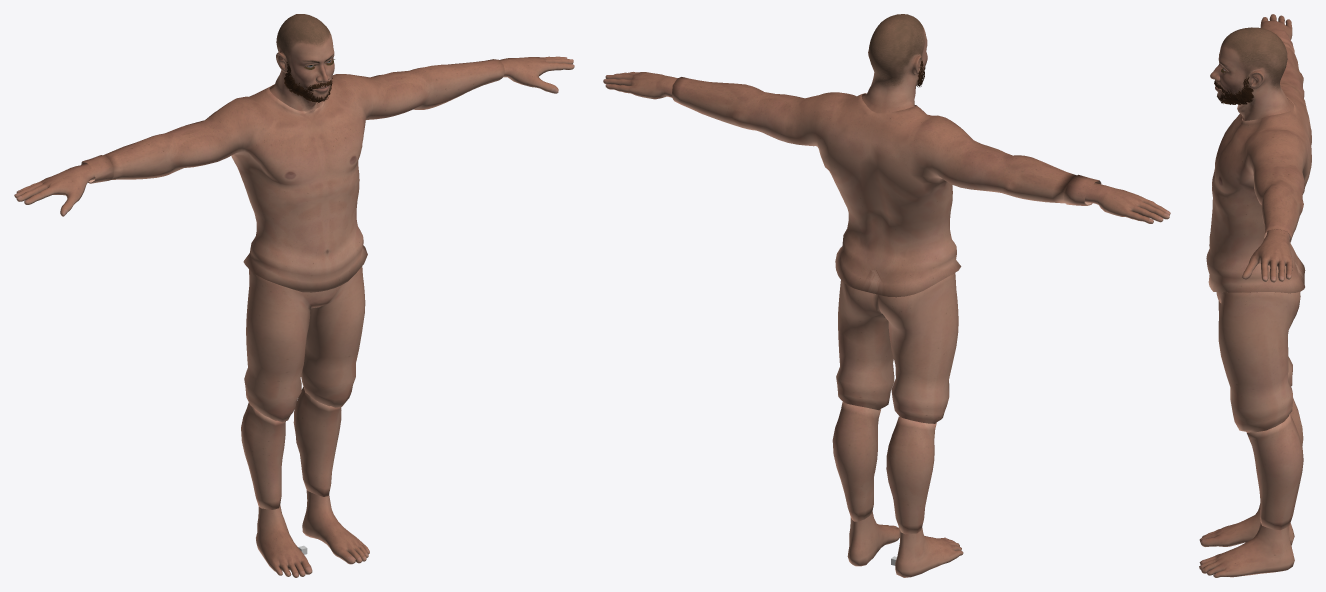
3 views of the same model, side by side, from view 1: azimuth 30°, elevation 25°; view 2: azimuth 150°, elevation 25°; view 3: azimuth 270°, elevation 25° (orthographic). The views are drawn at different scales.
Parts seen in each view (by area): view 1: Body.001, Body.002, Body, Body.003; view 2: Body.001, Body.002, Body, Body.003; view 3: Body.001, Body, Body.002, Body.003, Beards.
Boxes of the visible parts, bbox=[...] form: Body.001: bbox=[81, 59, 504, 292]; Body.002: bbox=[244, 266, 365, 422]; Body: bbox=[14, 14, 574, 577]; Body.003: bbox=[241, 387, 341, 509]; Body.001: bbox=[672, 77, 1101, 297]; Body.002: bbox=[836, 273, 958, 423]; Body: bbox=[603, 14, 1170, 577]; Body.003: bbox=[832, 402, 936, 534]; Body.001: bbox=[1206, 32, 1311, 293]; Body: bbox=[1199, 14, 1294, 577]; Body.002: bbox=[1216, 292, 1300, 432]; Body.003: bbox=[1246, 398, 1303, 530]; Beards: bbox=[1217, 76, 1253, 104].
Bounding box in the file's own units: 19407 × 17908 × 3448.
Materials: 3 (2 with a texture image).
